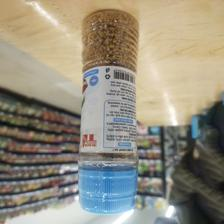TayNinh_blue: (76, 9, 141, 215)
